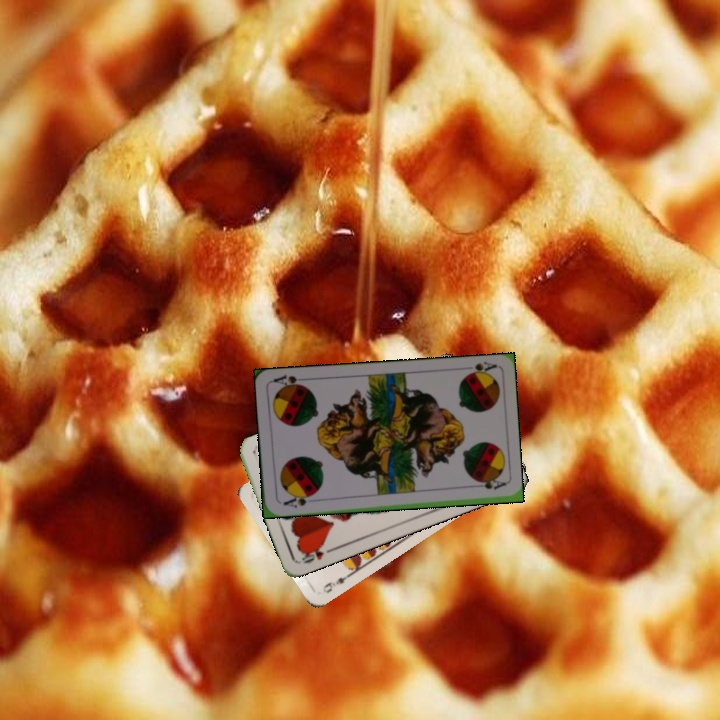E9: (318, 569, 354, 596)
HO: (297, 541, 335, 566)
SA: (279, 490, 318, 511), (460, 358, 498, 379)
